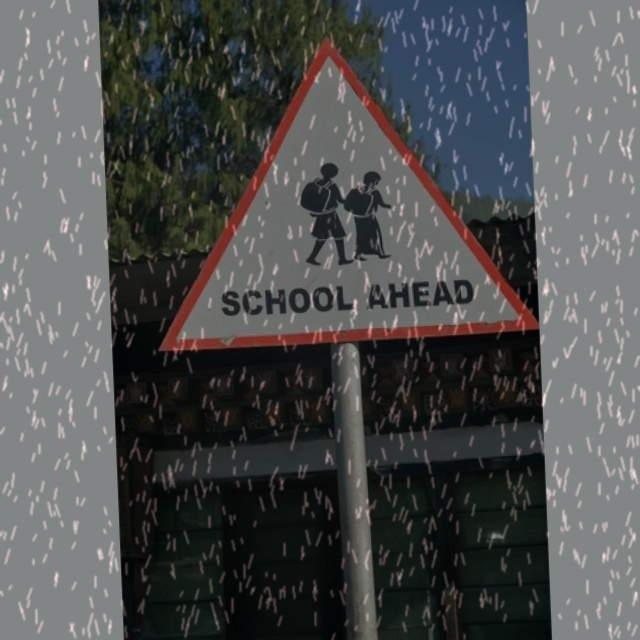School_Ahead: (172, 29, 530, 354)
